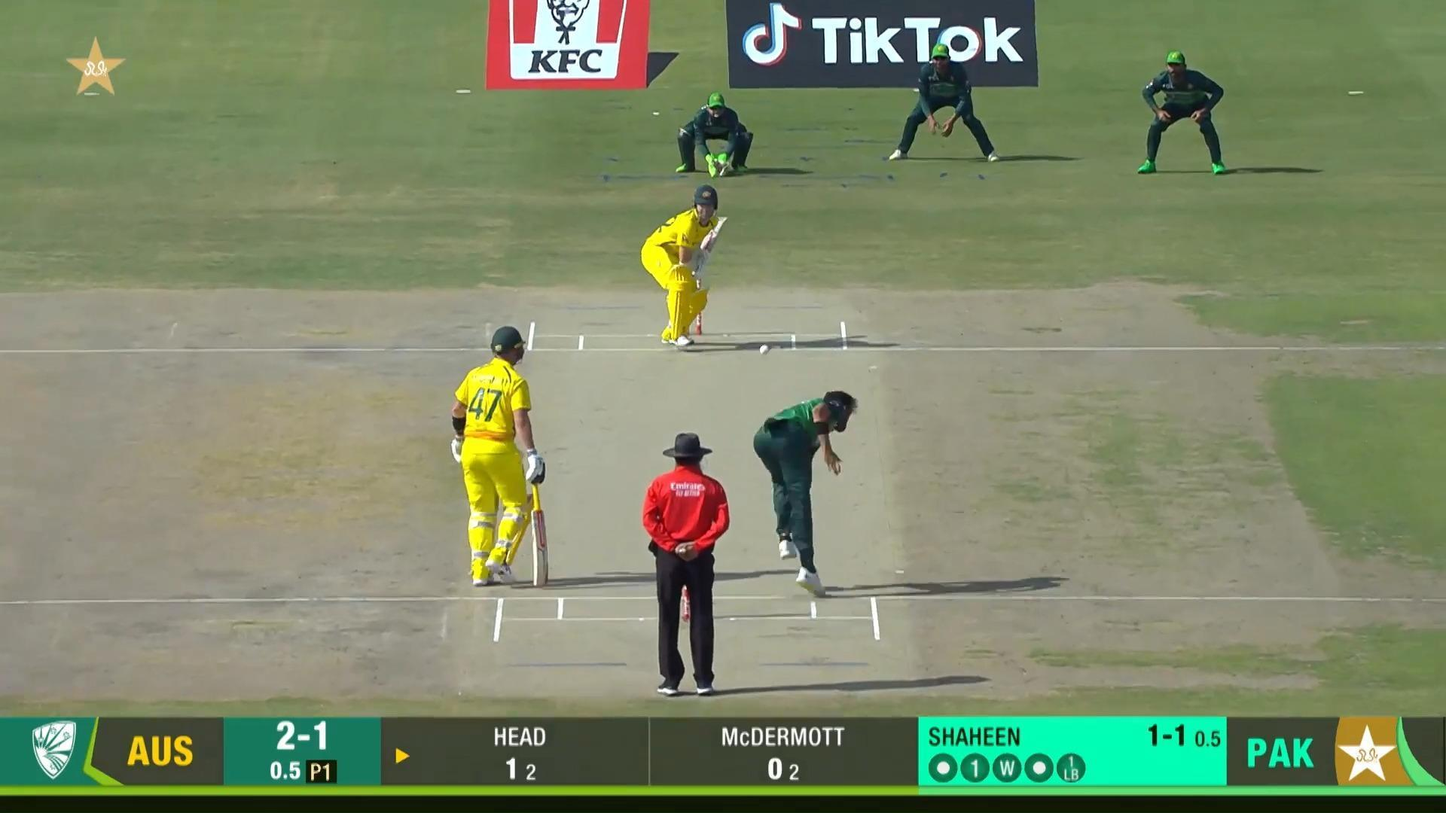BM 1: (639, 183, 729, 349)
BO: (754, 390, 859, 596)
